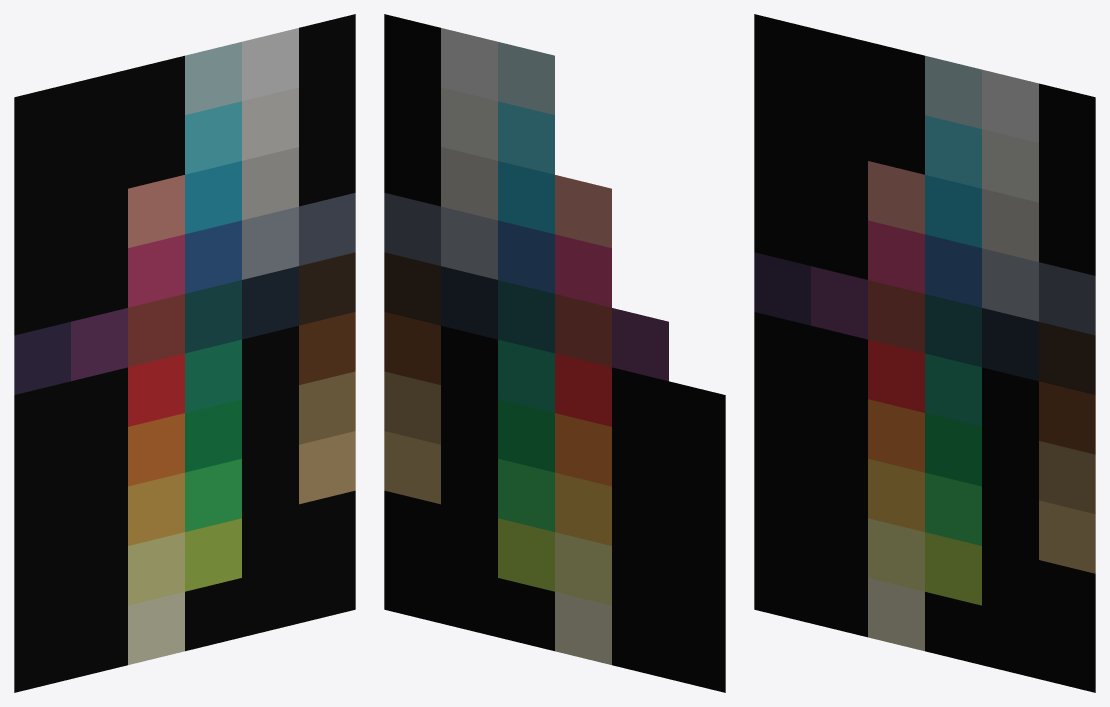
The model's file is FG 'mat' Pallet Materials.fbx.
3 renders of one model, left to right at view 1: azimuth 30°, elevation 25°; view 2: azimuth 150°, elevation 25°; view 3: azimuth 330°, elevation 25°, orthographic.
Visible parts, largest first — view 1: FG Pallet Plane; view 2: FG Pallet Plane; view 3: FG Pallet Plane.
Part boxes in pixels (left/top/right/bottom): FG Pallet Plane: left=14, top=14, right=355, bottom=692; FG Pallet Plane: left=384, top=14, right=725, bottom=692; FG Pallet Plane: left=754, top=14, right=1095, bottom=692.
Bounding box in the file's own units: 300 × 500 × 9.46e-05.
